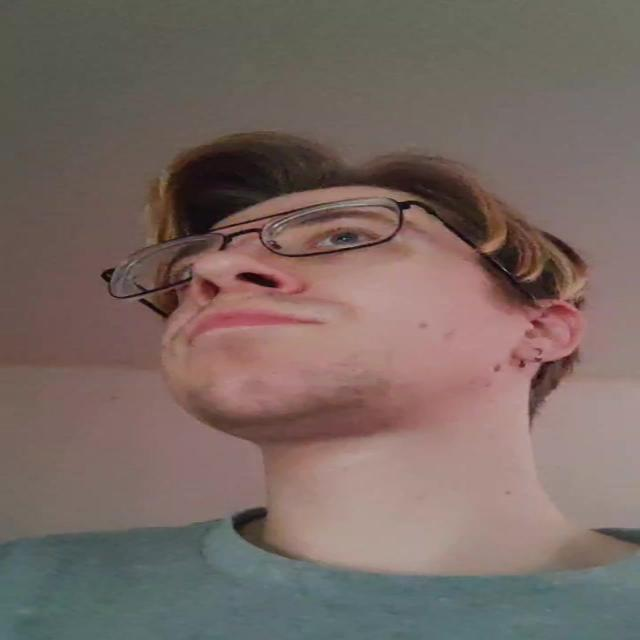earlobe: (504, 297, 584, 365)
